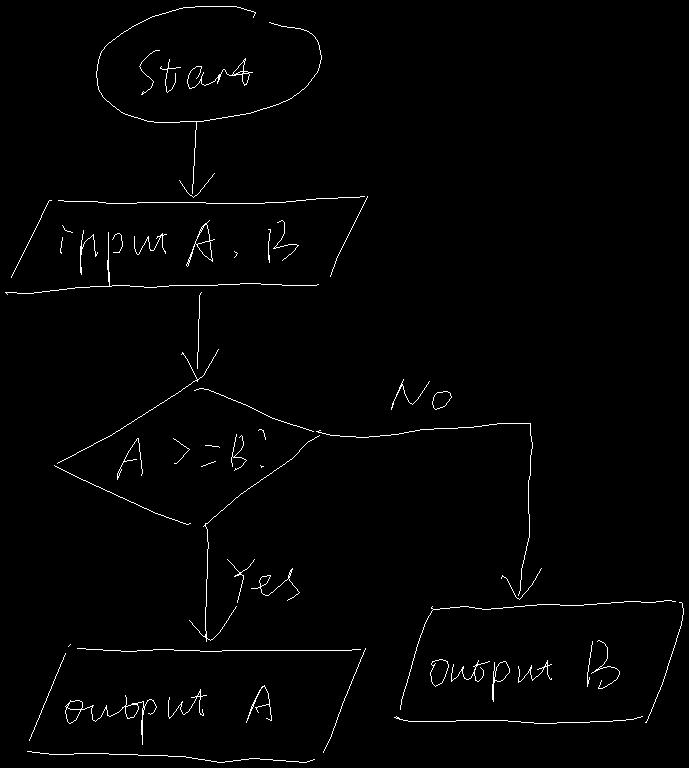arrow: (316, 423, 541, 599), (189, 523, 236, 641), (181, 292, 218, 380), (179, 121, 214, 197)
data: (27, 644, 365, 762), (394, 600, 683, 723), (5, 196, 367, 294)
decision: (54, 380, 319, 526)
terminator: (96, 6, 321, 122)
text: (60, 220, 298, 285), (65, 685, 271, 744), (430, 640, 619, 701), (117, 429, 265, 479), (139, 50, 252, 94), (227, 559, 299, 602), (391, 379, 451, 409)
